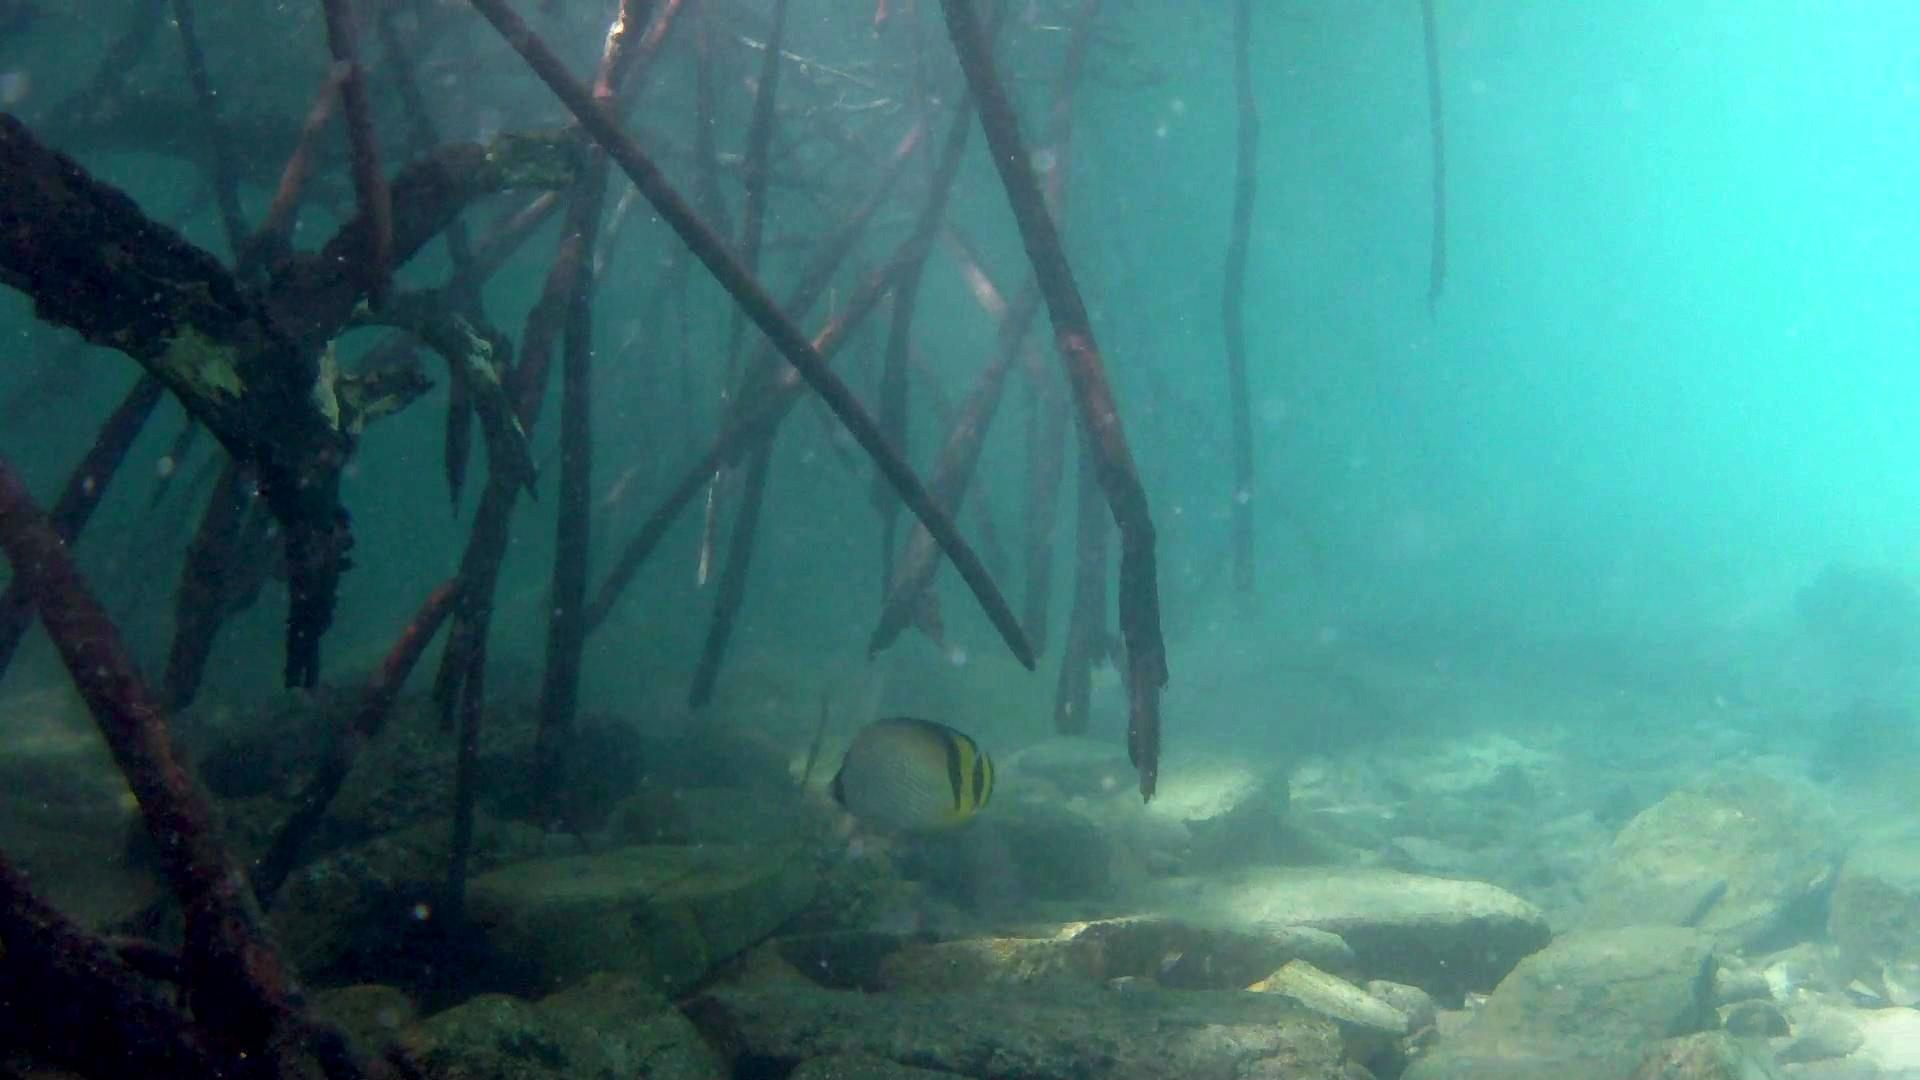chaetodon vagabundus: (812, 713, 998, 832)
